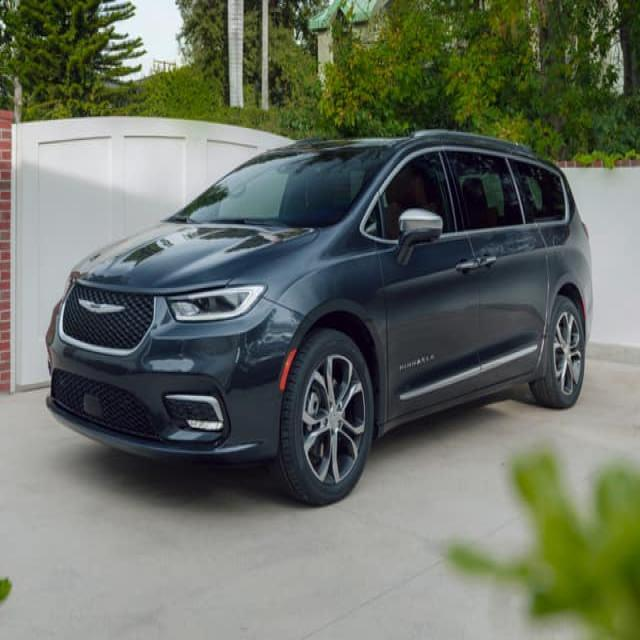minivan: (44, 126, 594, 506)
